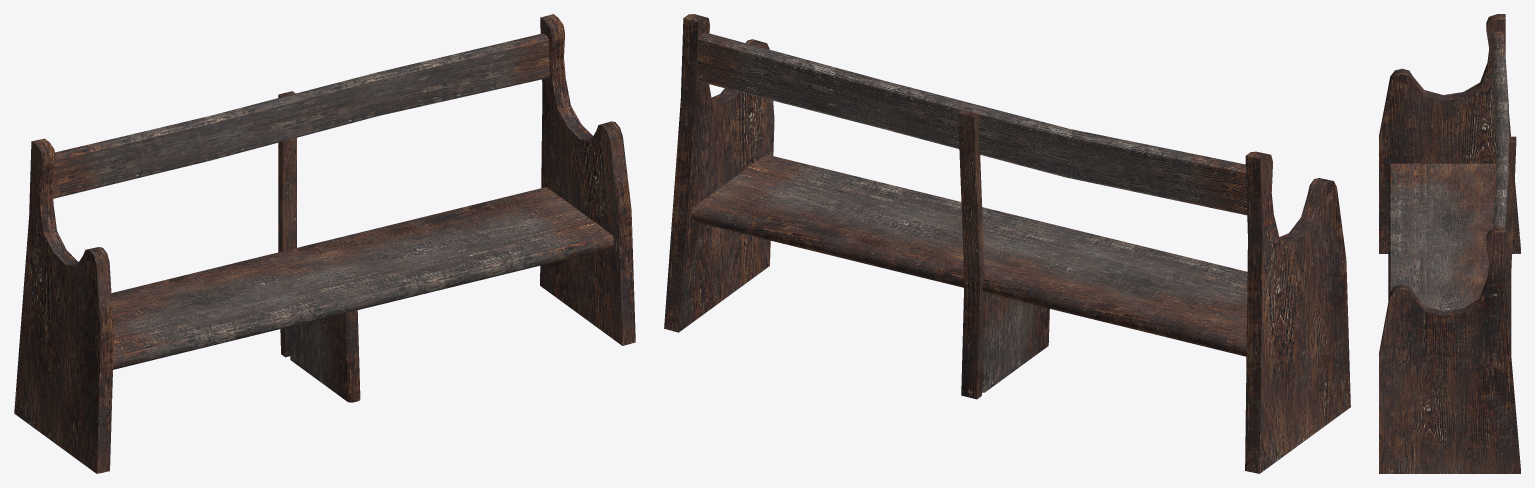
Rendered from bench.DAE.
3 views of the same model, side by side, from view 1: azimuth 30°, elevation 25°; view 2: azimuth 150°, elevation 25°; view 3: azimuth 270°, elevation 25° (orthographic). The views are drawn at different scales.
Parts seen in each view (by area): view 1: Box003; view 2: Box003; view 3: Box003.
Part boxes in pixels (<box>): Box003: <box>14,14,635,473</box>; Box003: <box>664,14,1350,473</box>; Box003: <box>1379,14,1520,473</box>.
Bounding box in the file's own units: 3.06 × 1.5 × 0.8113.
